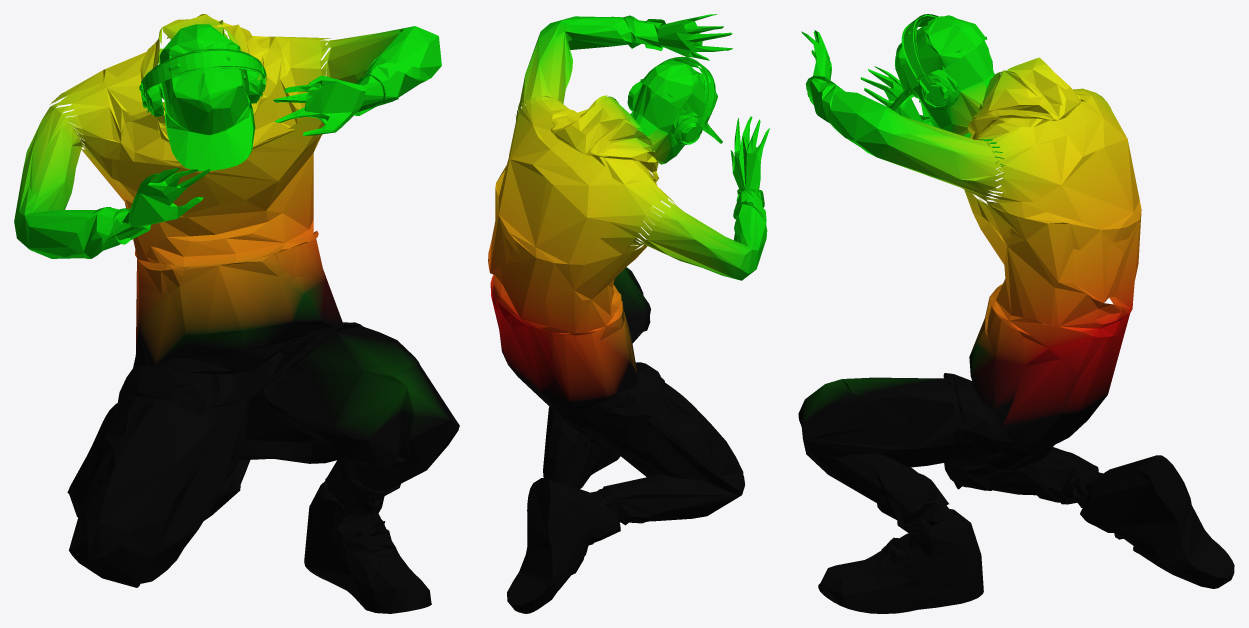
The model's file is James_Inspect.glb.
3 views of the same model, side by side, from view 1: azimuth 30°, elevation 25°; view 2: azimuth 150°, elevation 25°; view 3: azimuth 270°, elevation 25° (orthographic). The views are drawn at different scales.
Visible parts, largest first — view 1: full30; view 2: full30; view 3: full30.
Part boxes in pixels (x1,y1,x2,y2): full30: (14,14,459,613); full30: (488,14,769,613); full30: (798,14,1234,613).
Bounding box in the file's own units: 0.6994 × 1.18 × 0.8521.
